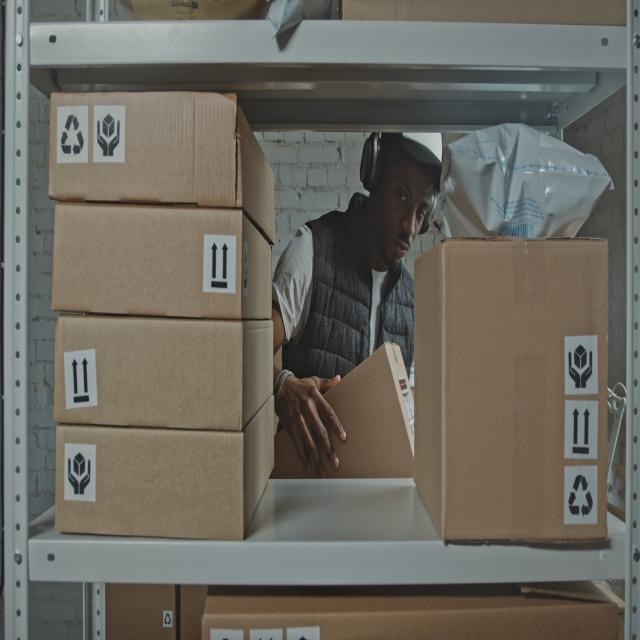counting-the-number-of-boxes: (413, 238, 609, 545), (49, 92, 277, 247), (54, 395, 275, 540), (54, 314, 274, 430), (51, 205, 272, 320), (312, 343, 414, 478), (269, 431, 322, 478)
